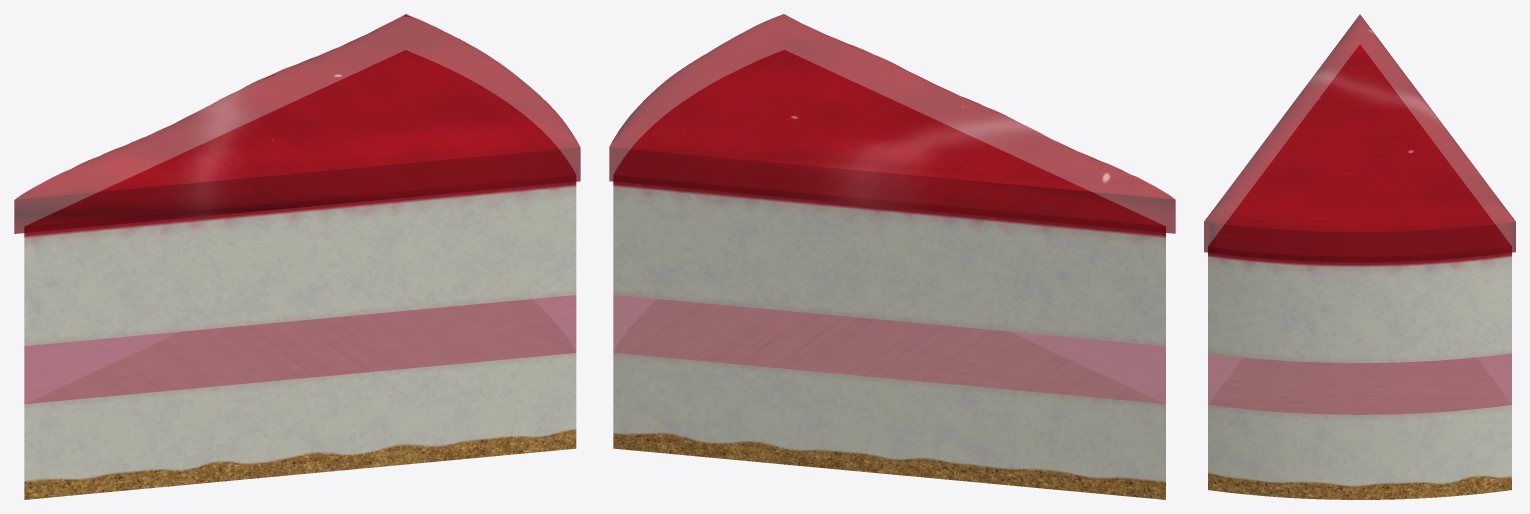
The model's file is raspberry-cheesecake.glb.
3 renders of one model, left to right at view 1: azimuth 30°, elevation 25°; view 2: azimuth 150°, elevation 25°; view 3: azimuth 270°, elevation 25°, orthographic. The views are drawn at different scales.
Parts seen in each view (by area): view 1: cake; view 2: cake; view 3: cake.
Part boxes in pixels (box(x1,y1,x2,y2)): cake: box(14, 14, 580, 499); cake: box(609, 14, 1175, 499); cake: box(1204, 14, 1515, 499).
Bounding box in the file's own units: 1.03 × 0.6284 × 0.6199.
Materials: 3 (3 with a texture image).
